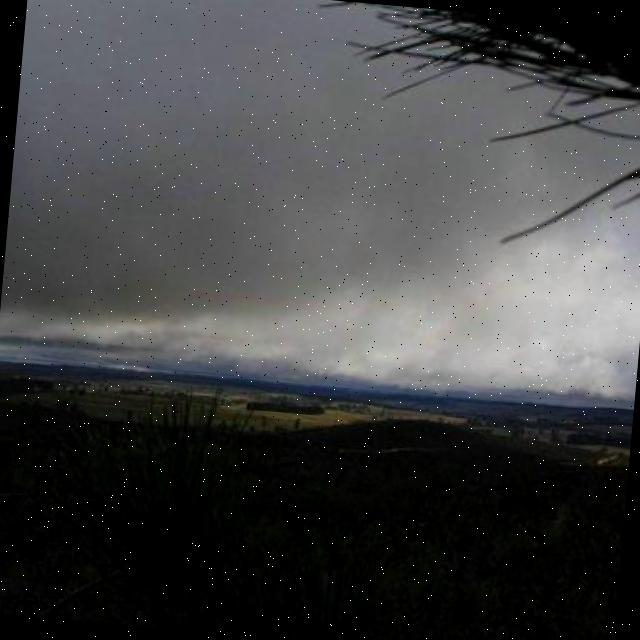St: (1, 14, 475, 359)
